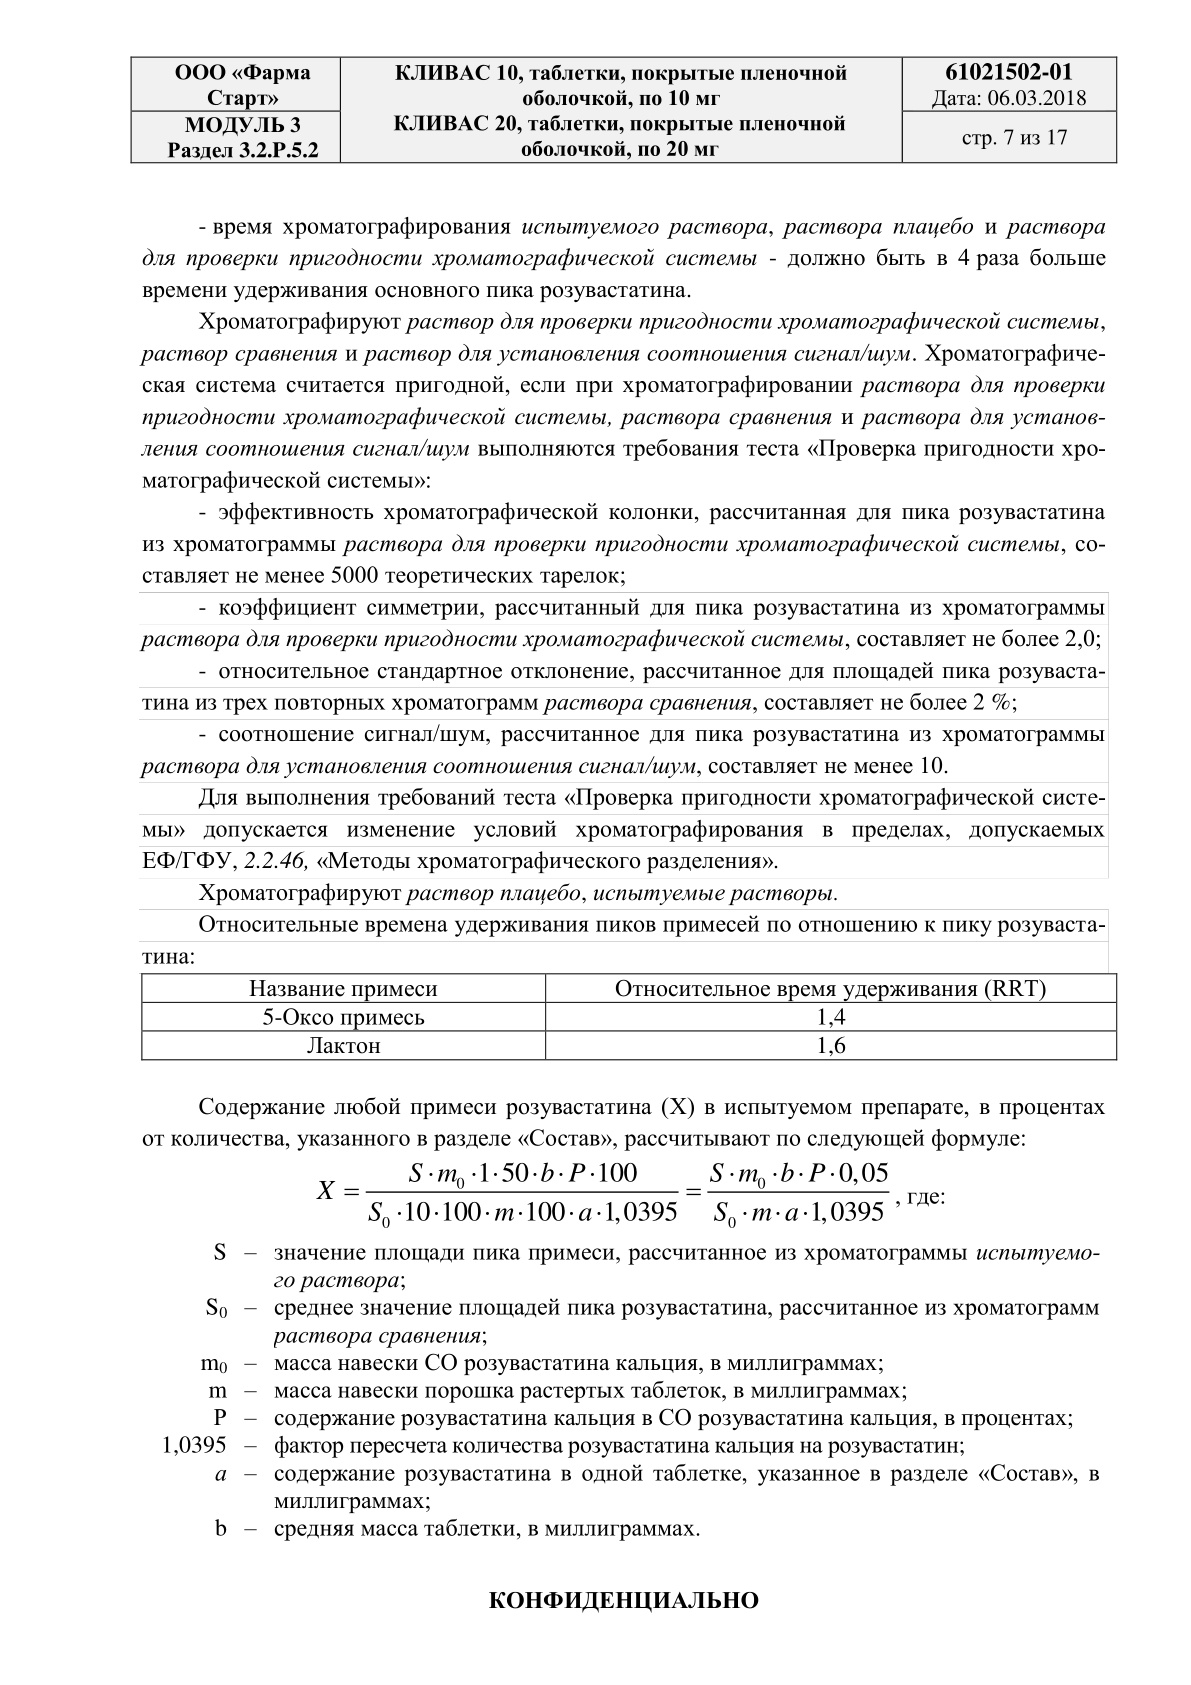full_lined: (140, 972, 1118, 1061)
merged_cells: (129, 55, 1118, 164)
